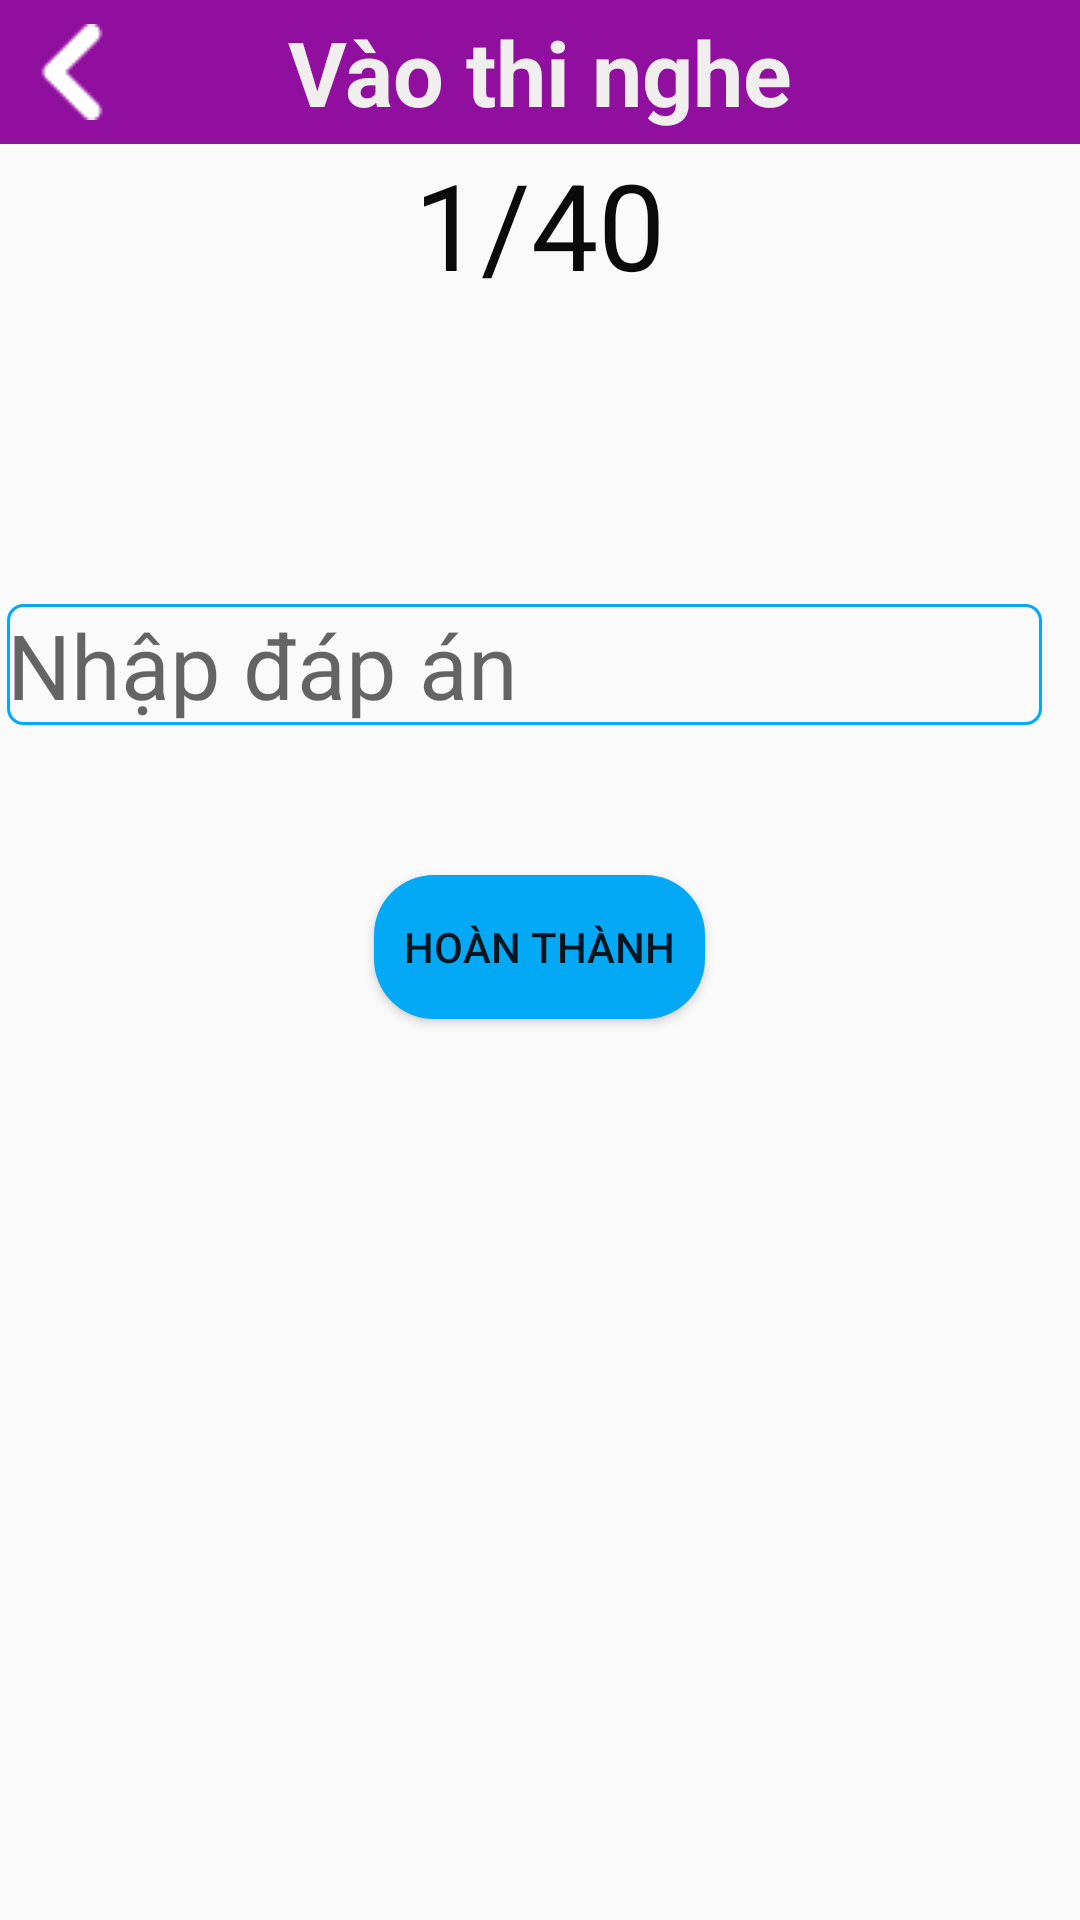

Named icons in this screenshot (1080px×1920px) and their bounding boxes, (x1, y1, x2, y2):
backk trang: (41, 24, 103, 120)
